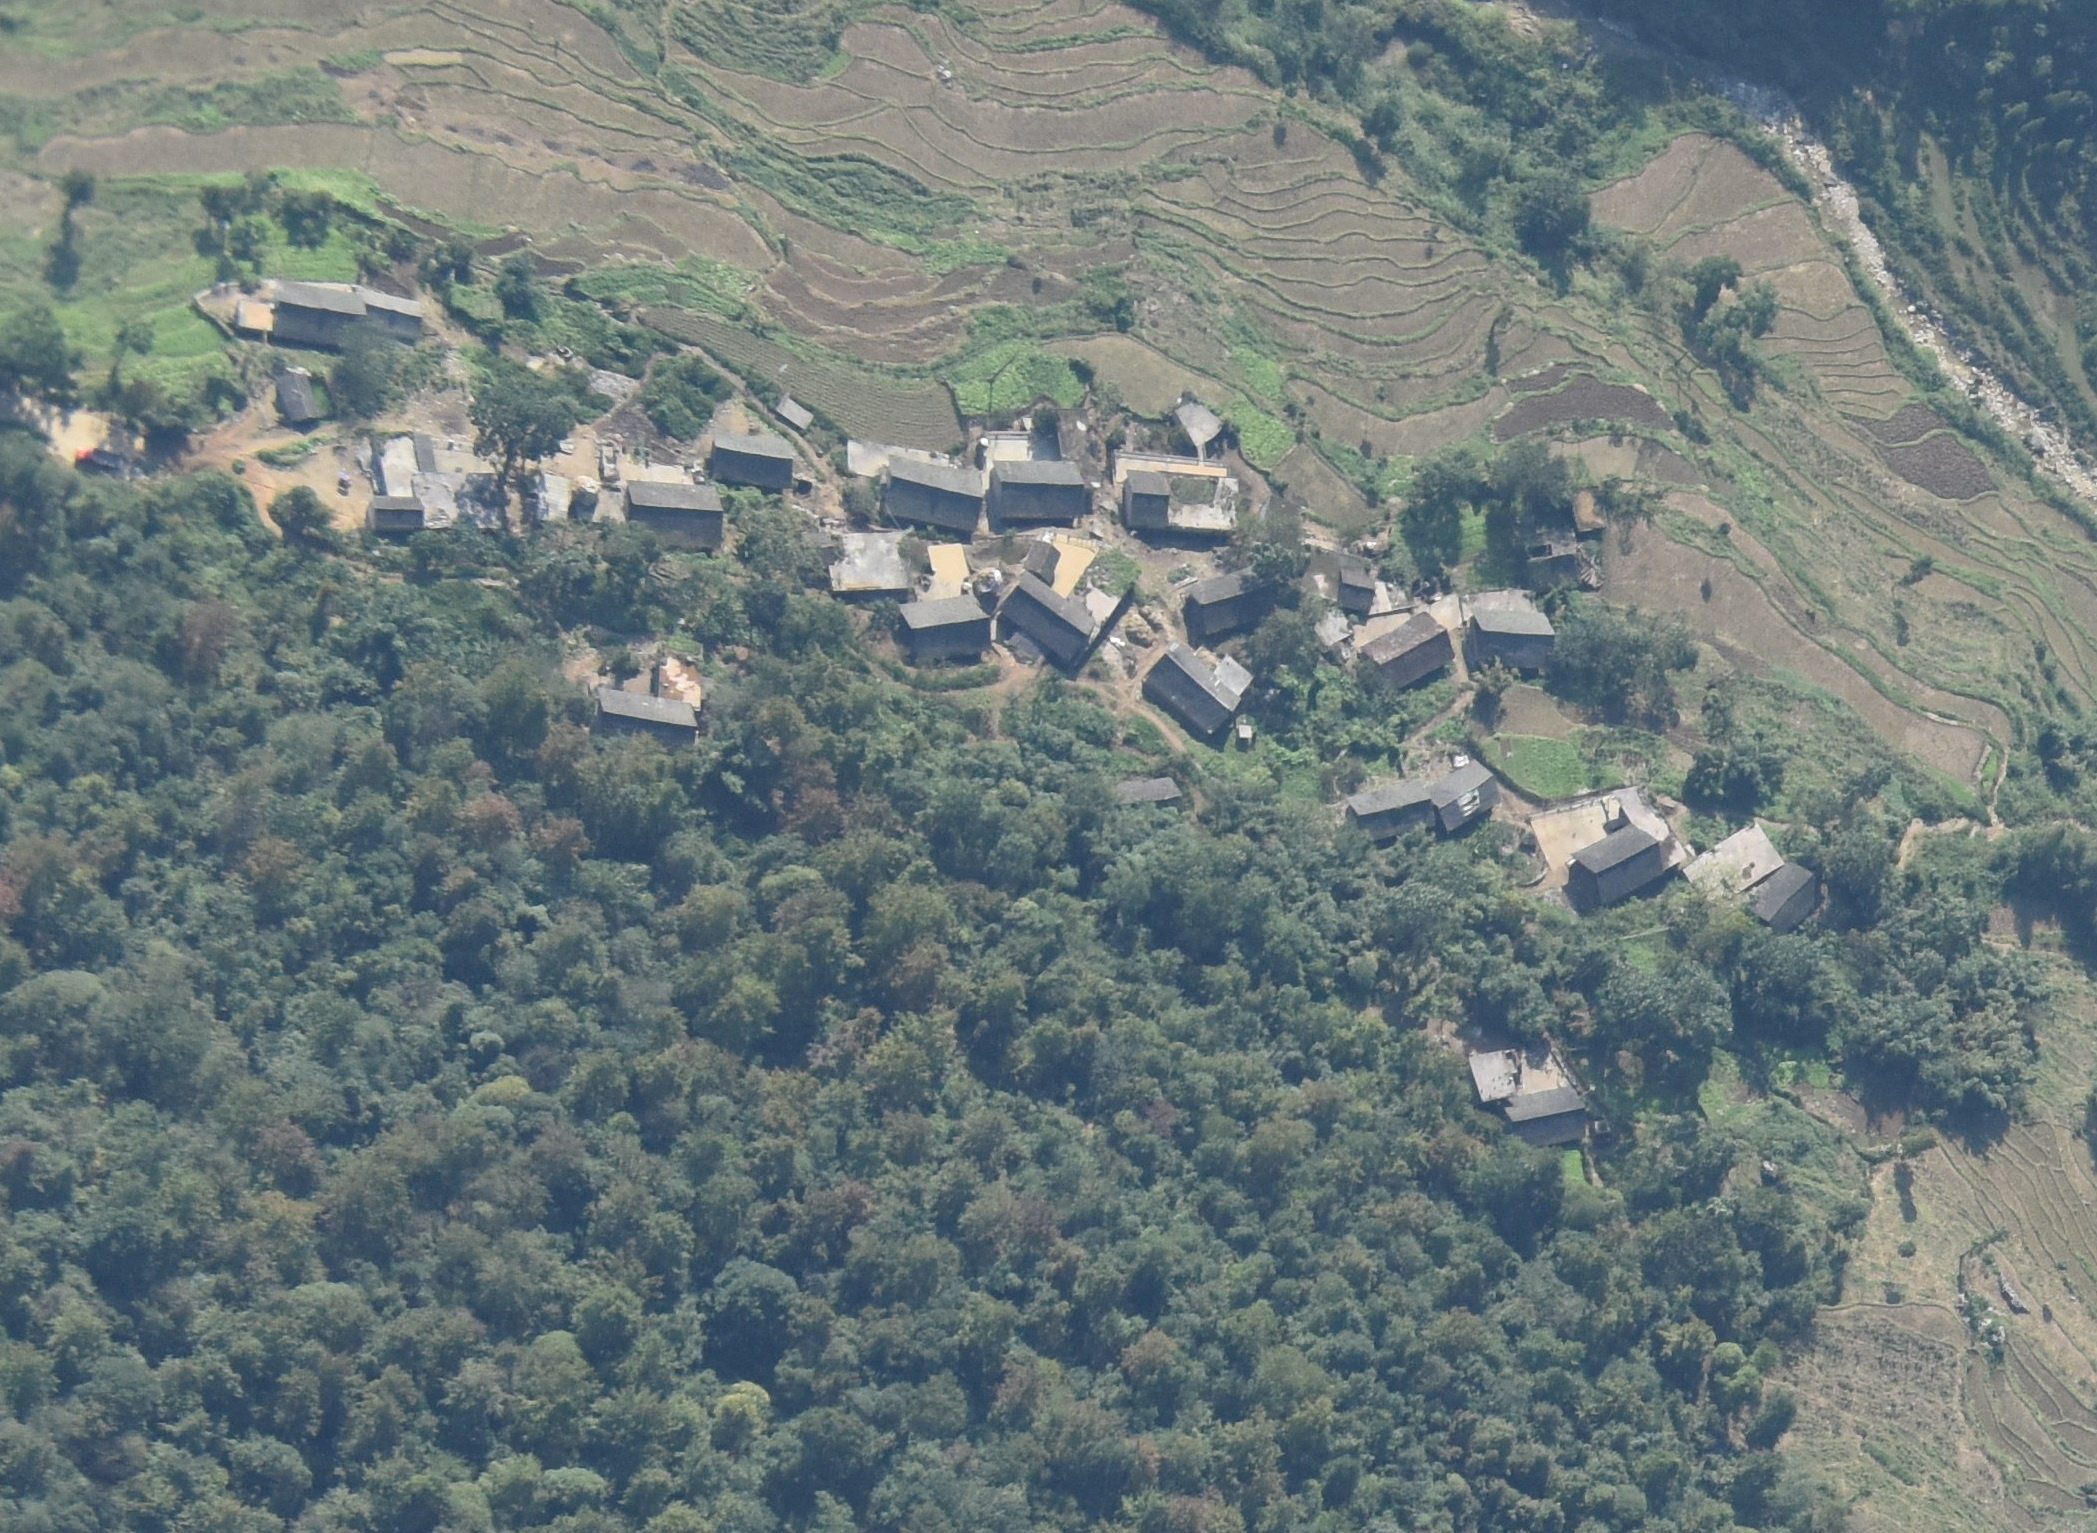building: (1138, 640, 1254, 736), (1000, 570, 1094, 662), (1683, 819, 1784, 903), (1356, 610, 1454, 692), (1122, 465, 1237, 534), (1574, 820, 1662, 905), (886, 454, 983, 529), (598, 688, 697, 755), (900, 591, 988, 661), (625, 482, 725, 540), (993, 457, 1084, 521), (1745, 858, 1820, 931), (277, 282, 366, 342), (824, 531, 913, 591), (1428, 757, 1501, 828), (1501, 1085, 1586, 1146), (1190, 570, 1270, 633), (1469, 614, 1556, 669), (1340, 784, 1429, 838), (651, 636, 702, 714), (378, 435, 441, 495), (715, 438, 793, 485), (1057, 408, 1101, 488), (1105, 775, 1182, 820), (365, 288, 422, 342), (1465, 1046, 1522, 1100), (1522, 534, 1579, 583), (462, 470, 506, 531), (926, 544, 970, 597), (1175, 400, 1228, 444), (1568, 485, 1612, 532), (368, 495, 425, 529), (1312, 609, 1353, 653), (277, 376, 314, 421), (1340, 566, 1374, 614), (773, 392, 816, 430), (1026, 539, 1062, 581), (238, 303, 274, 329)
vehicle: (72, 448, 124, 469)
